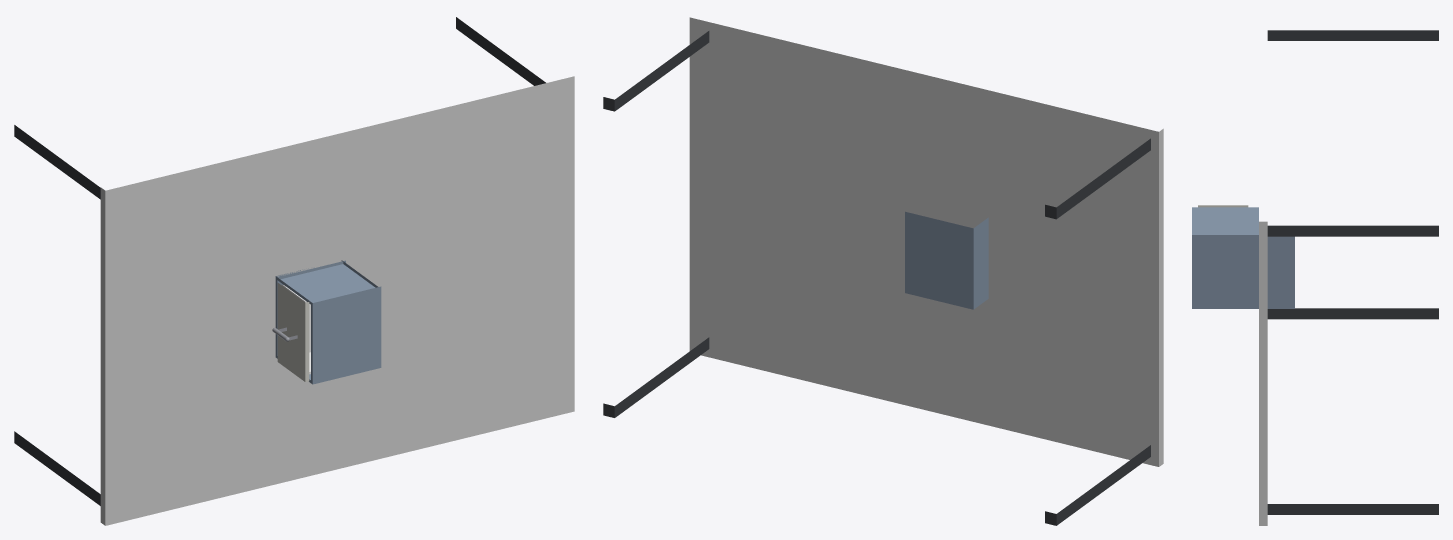
3 views of the same model, side by side, from view 1: azimuth 30°, elevation 25°; view 2: azimuth 150°, elevation 25°; view 3: azimuth 270°, elevation 25° (orthographic). The views are drawn at different scales.
Visible parts, largest first — view 1: s0, s1, s2; view 2: s0, s1; view 3: s0, s1.
Part boxes in pixels (x1,y1,x2,y2): s0: (14,17,574,525); s1: (275,260,381,384); s2: (272,283,310,381); s0: (603,17,1163,525); s1: (905,211,988,309); s0: (1259,30,1438,525); s1: (1192,207,1294,308).
Bounding box in the file's own units: 2.05 × 1.4 × 1.03.
